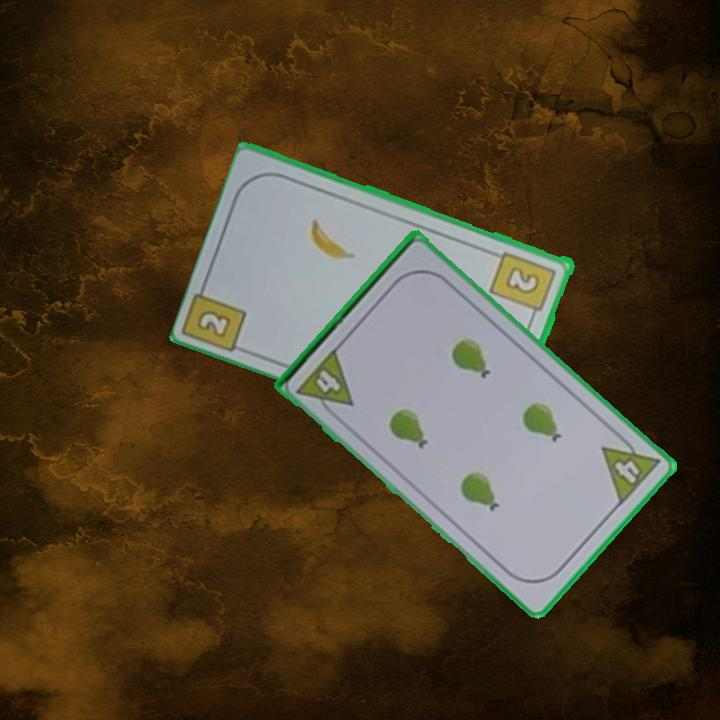2b: (487, 248, 560, 322), (194, 306, 235, 341)
4p: (598, 428, 663, 509), (293, 344, 357, 423)
